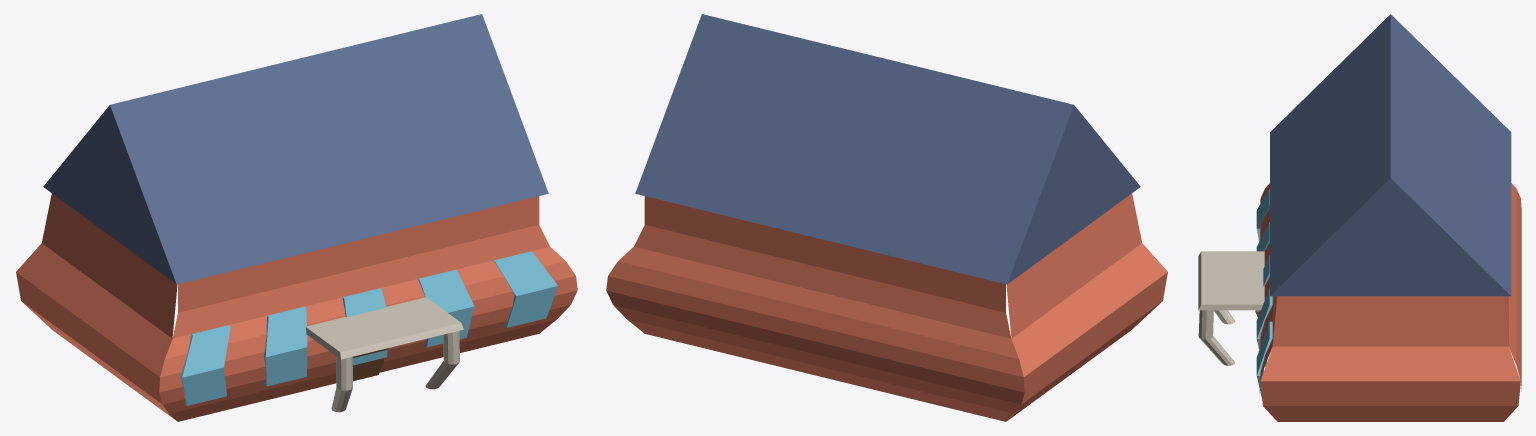
File: library.glb
3 views of the same model, side by side, from view 1: azimuth 30°, elevation 25°; view 2: azimuth 150°, elevation 25°; view 3: azimuth 270°, elevation 25° (orthographic). The views are drawn at different scales.
Parts seen in each view (by area): view 1: library_roof_slate, library_brick, library_window, library_stone, library_door; view 2: library_roof_slate, library_brick; view 3: library_roof_slate, library_brick, library_stone, library_window.
Part boxes in pixels (<box>): library_roof_slate: <box>43,14,548,284</box>; library_brick: <box>16,193,577,421</box>; library_window: <box>180,251,557,405</box>; library_stone: <box>306,297,463,412</box>; library_door: <box>352,348,388,381</box>; library_roof_slate: <box>635,14,1140,284</box>; library_brick: <box>606,193,1167,421</box>; library_roof_slate: <box>1270,14,1511,296</box>; library_brick: <box>1259,183,1521,421</box>; library_stone: <box>1198,251,1264,365</box>; library_window: <box>1256,188,1272,399</box>.
Size of the model in its own units: 24.09 by 15 by 17.85.
